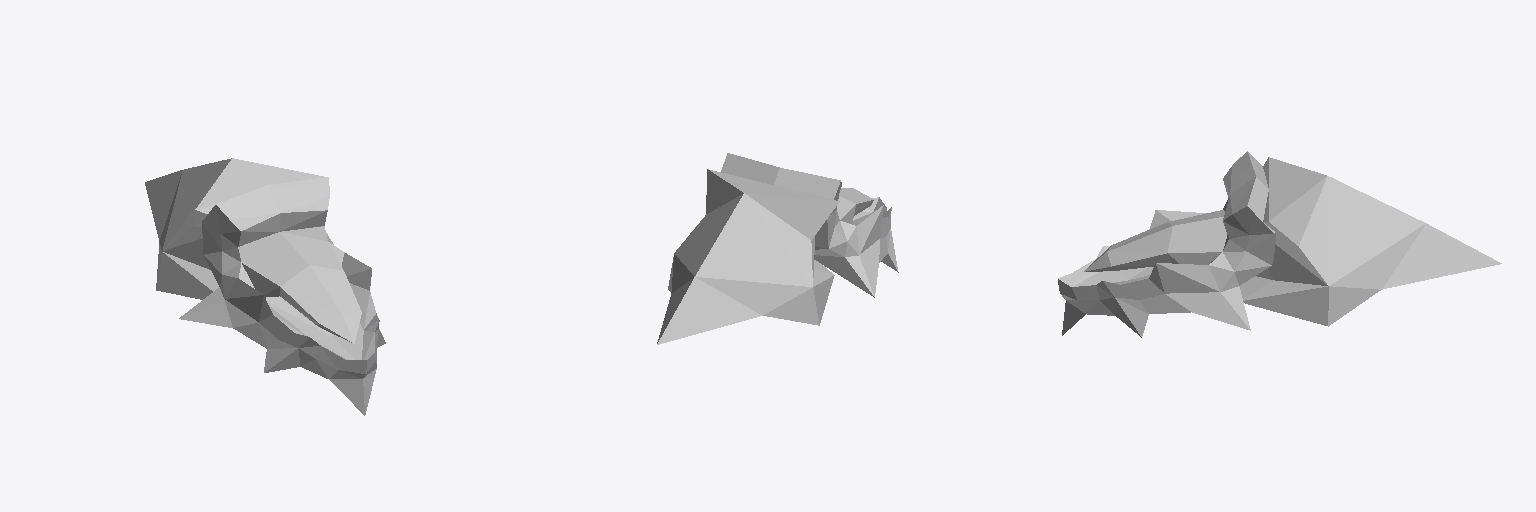
The model's file is jaw.obj.
3 renders of one model, left to right at view 1: azimuth 30°, elevation 25°; view 2: azimuth 150°, elevation 25°; view 3: azimuth 270°, elevation 25°, orthographic.
Parts seen in each view (by area): view 1: jaw jaw_matMain, jaw_matMouth jaw, jaw jaw_matBody0, jaw jaw_matBody1; view 2: jaw jaw_matMain, jaw_matMouth jaw, jaw jaw_matBody0; view 3: jaw jaw_matMain, jaw_matMouth jaw, jaw jaw_matBody0, jaw jaw_matBody1.
Part boxes in pixels (x1,y1,x2,y2): jaw jaw_matMain: (145,158,385,415); jaw_matMouth jaw: (238,226,378,359); jaw jaw_matBody0: (195,158,329,219); jaw jaw_matBody1: (230,185,329,230); jaw jaw_matMain: (657,153,898,344); jaw_matMouth jaw: (837,188,891,225); jaw jaw_matBody0: (708,169,835,200); jaw jaw_matMain: (1058,151,1501,337); jaw_matMouth jaw: (1070,198,1228,286); jaw jaw_matBody0: (1232,152,1326,221); jaw jaw_matBody1: (1223,166,1255,220).
Size of the model in its own units: 0.338 by 0.281 by 0.7054.